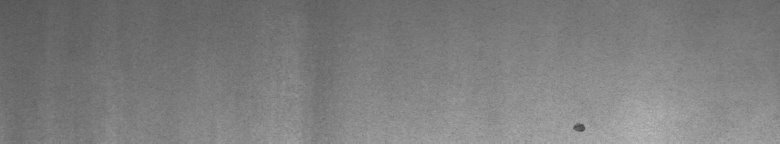fi: (568, 116, 591, 136)
